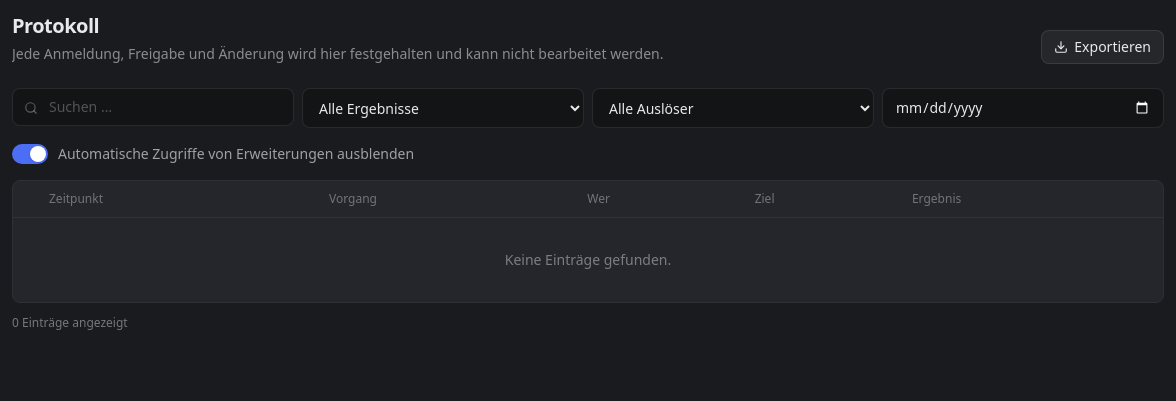
Test case: Protokoll exportieren bei abgelaufener Anmeldung › Erneuerung abgelehnt: verständliche Meldung statt HTTP 401, kein dritter Versuch
The width and height of the screenshot is (1176, 401).
Expected: the text "Keine Einträge gefunden." is shown, [505, 250, 671, 269]
What coordinates should you click on to do the following:
click the button "Exportieren"
I would click on:
 (1103, 47)
Its box is [1041, 30, 1164, 64].
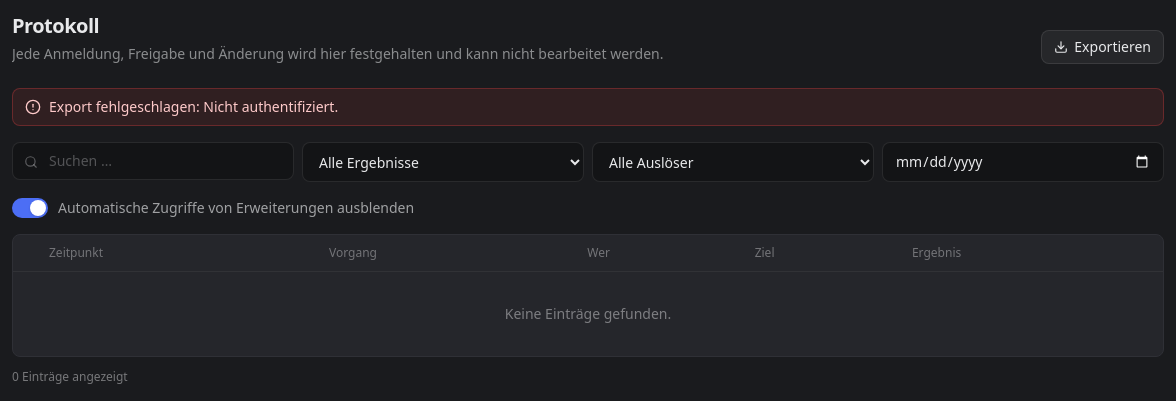
Expected: the text "Export fehlgeschlagen: Nicht authentifiziert." is shown, [12, 88, 1164, 126]
